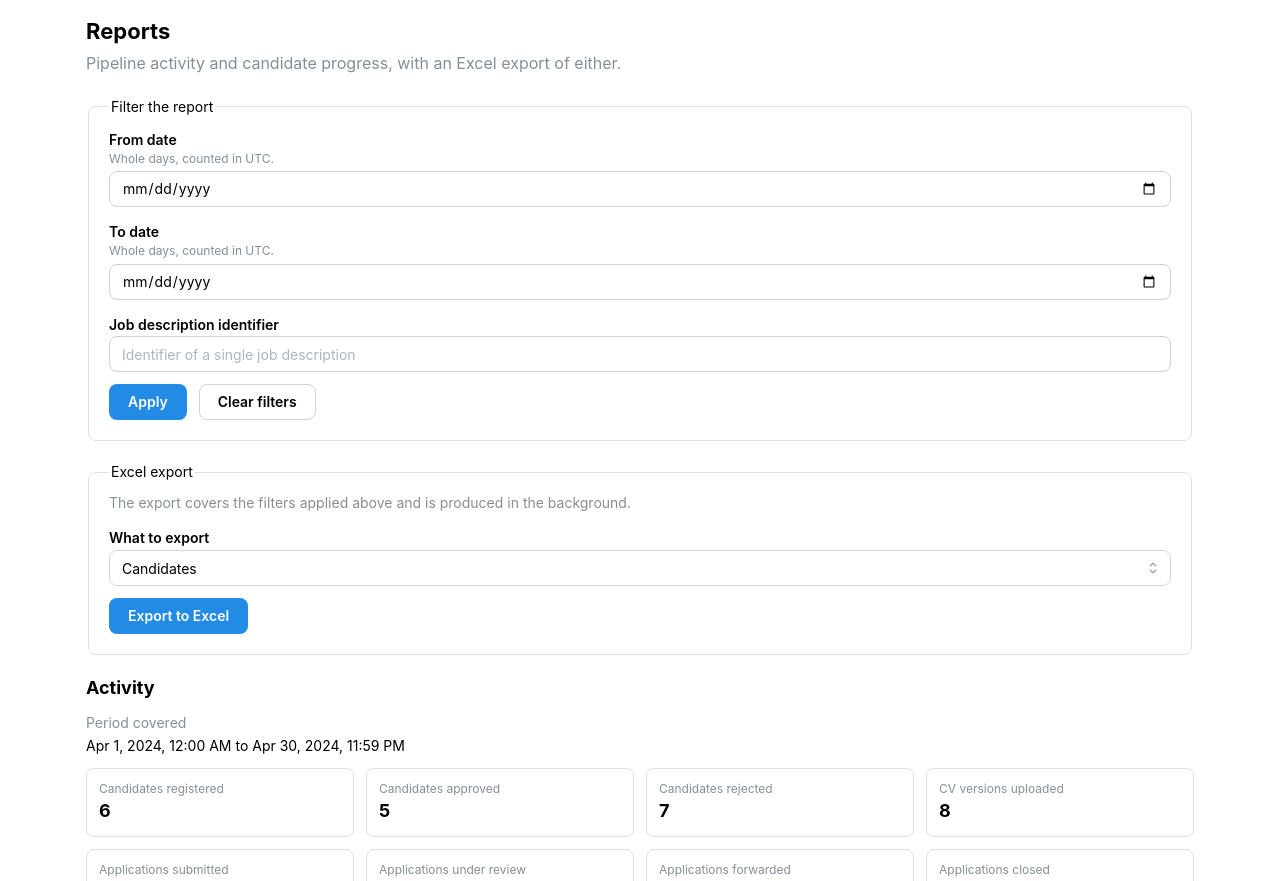
Scenario: the cadence of the export poll (Req 18 AC7, AC10) › stops at the first terminal status, however the server would answer next
Click the button with test id "export-request".
click(179, 616)  # box top-left (109, 598), bottom-right (248, 634)
Wait 65000 ms
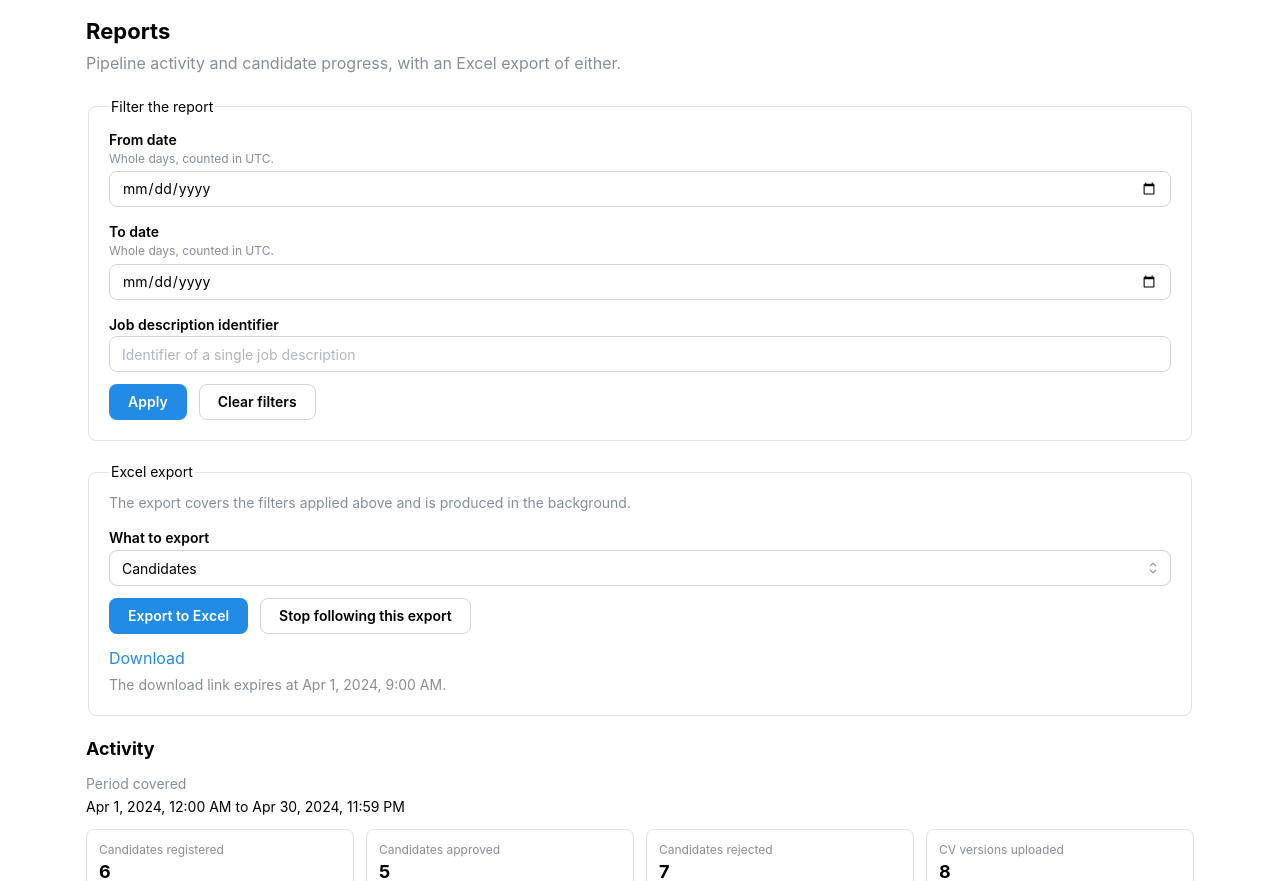
Expected: the element with test id "export-ready" is shown, top-left (109, 648), bottom-right (446, 693)
Expected: the link with test id "export-download" is shown, top-left (109, 648), bottom-right (185, 668)
